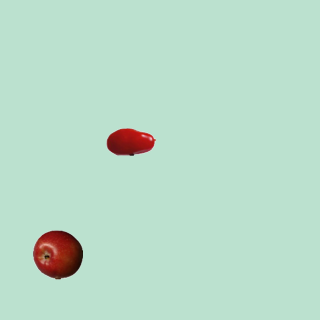Apple Braeburn: (32, 229, 82, 279)
Tomato 2: (105, 116, 155, 166)
